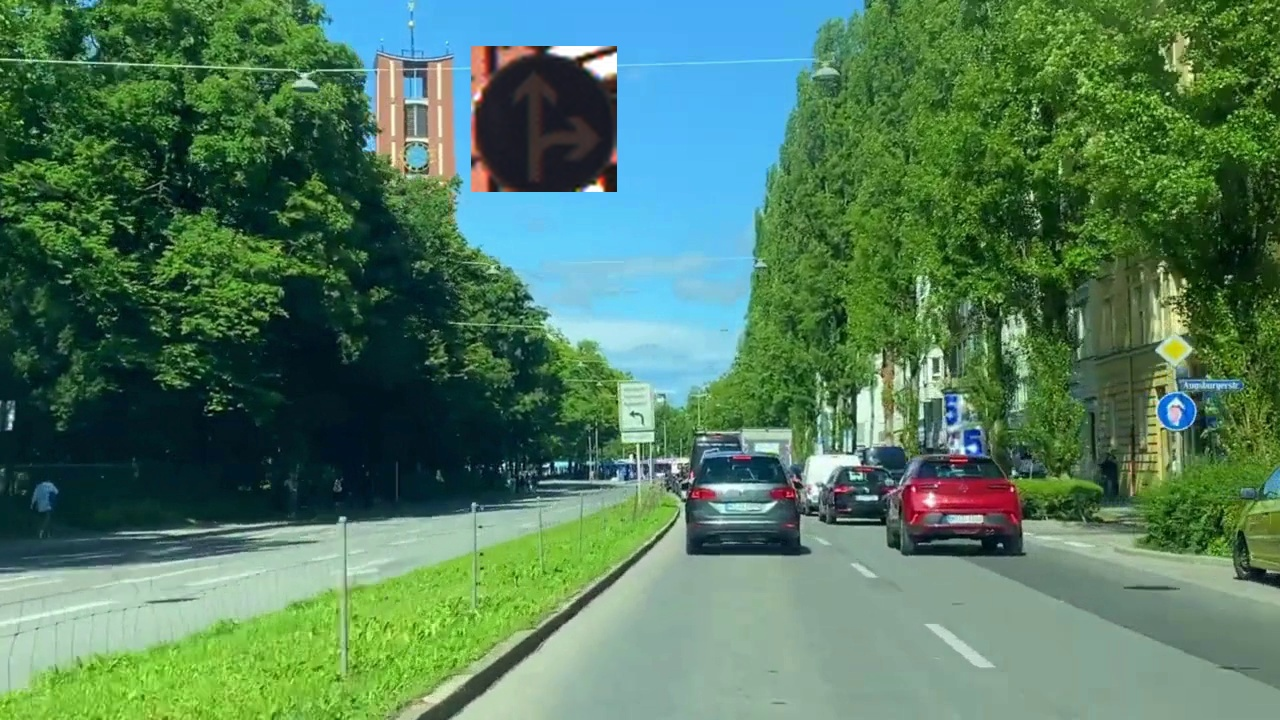Straight/right: (471, 46, 617, 192)
